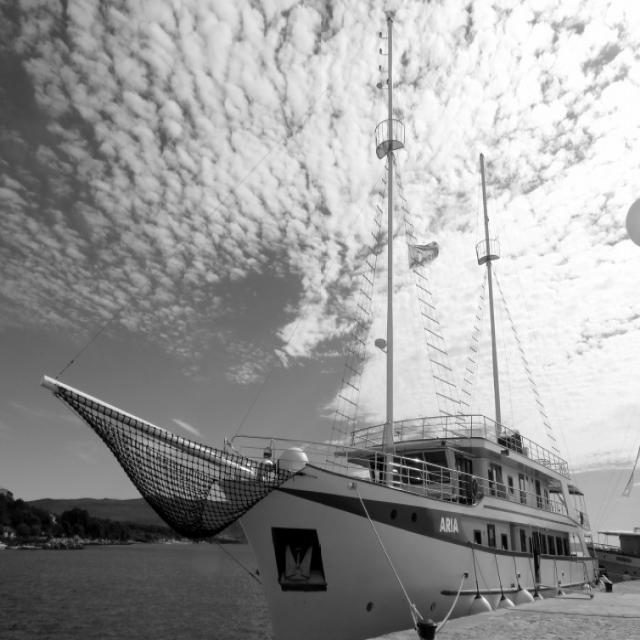cruises: (219, 404, 606, 640)
